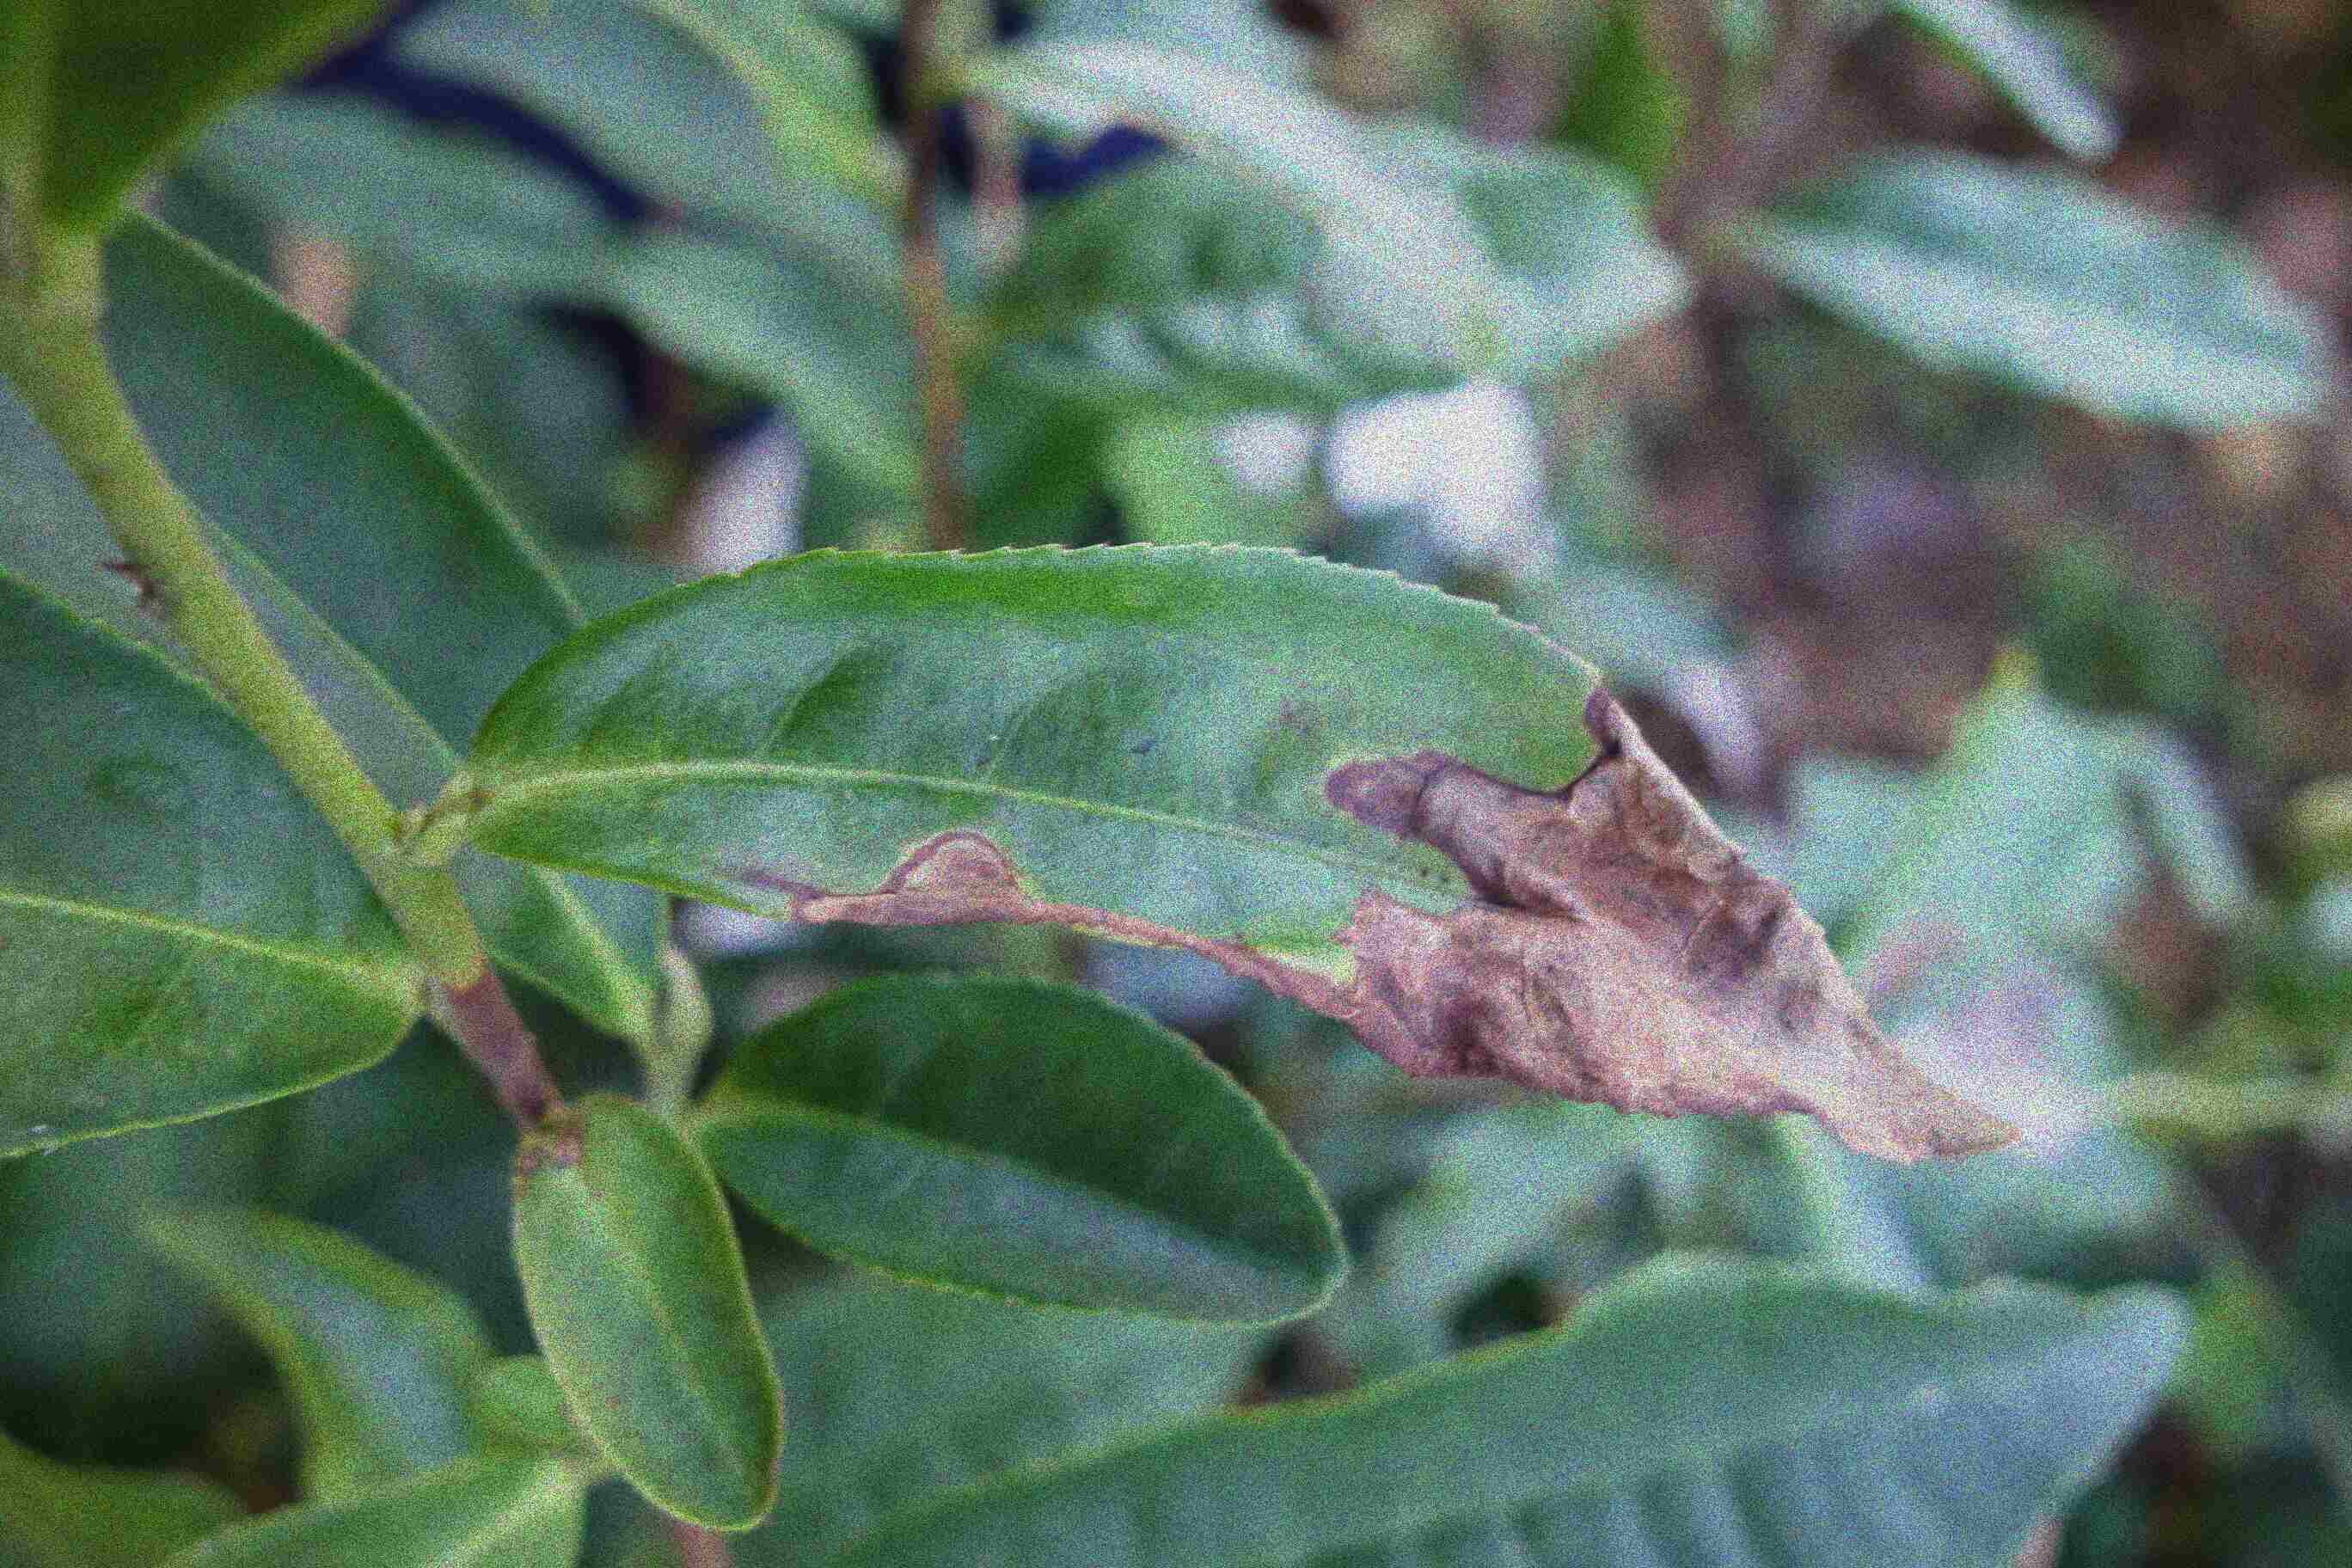tanju_high: (465, 541, 2028, 1158)
